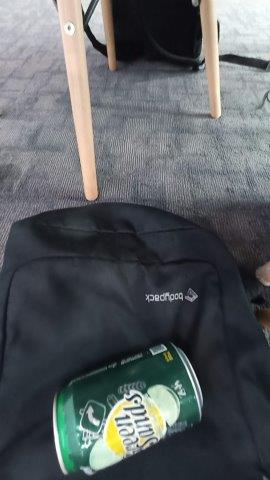kaleng: (53, 344, 203, 475)
